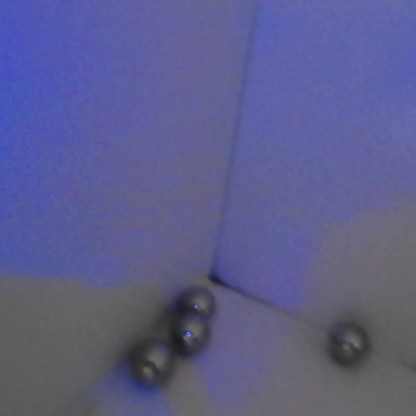ironball: (126, 339, 182, 390), (322, 314, 376, 366), (172, 310, 212, 358), (176, 283, 220, 324)
